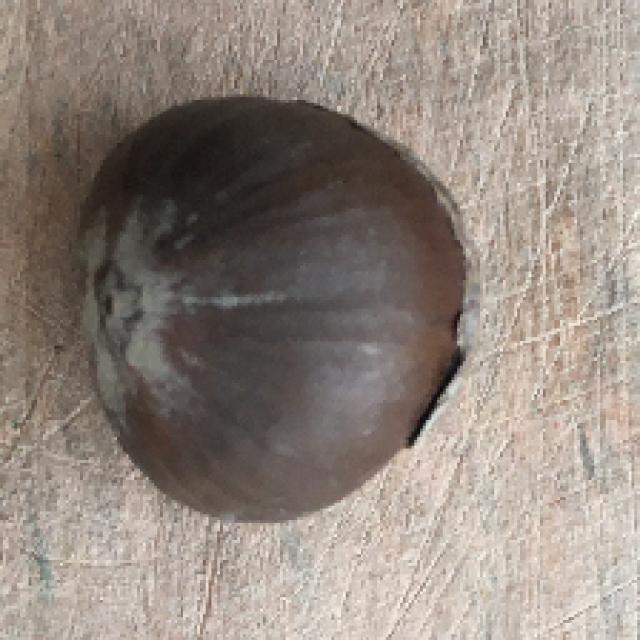damagedHazelnut: (68, 88, 472, 526)
